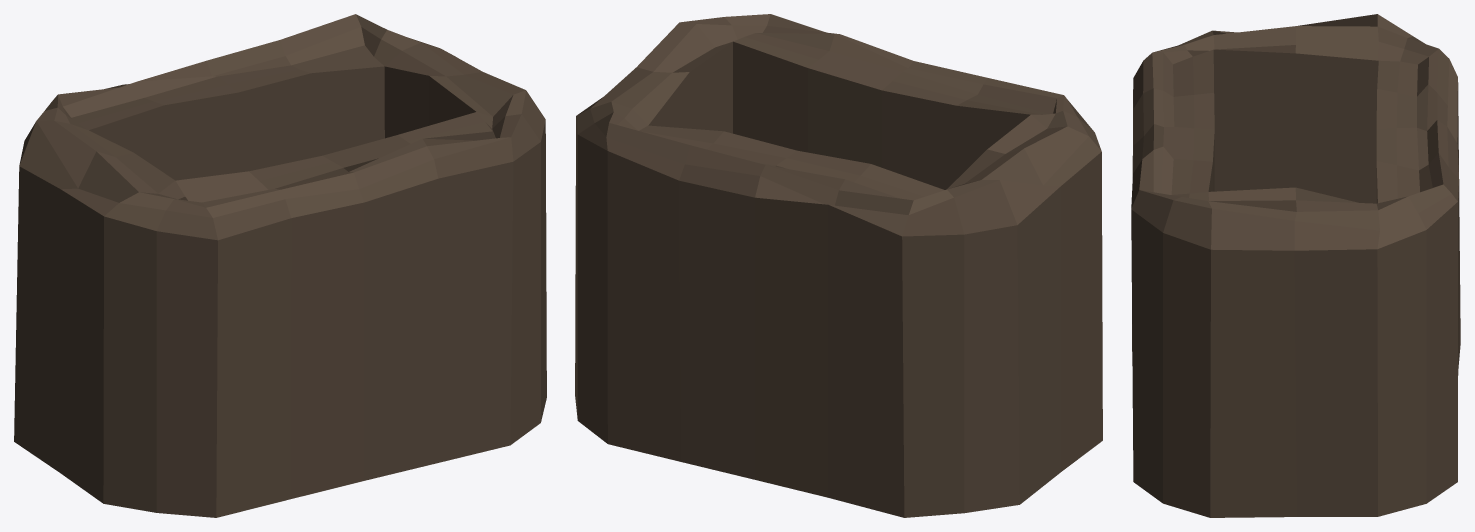
Rendered from grave_hole.fbx.
3 renders of one model, left to right at view 1: azimuth 30°, elevation 25°; view 2: azimuth 150°, elevation 25°; view 3: azimuth 270°, elevation 25°, orthographic. The views are drawn at different scales.
Parts seen in each view (by area): view 1: Cube; view 2: Cube; view 3: Cube.
Boxes of the visible parts, x1,y1,x2,y2 form: Cube: (14,14,546,517); Cube: (575,14,1102,517); Cube: (1131,14,1460,517).
Size of the model in its own units: 306 by 208 by 204.
